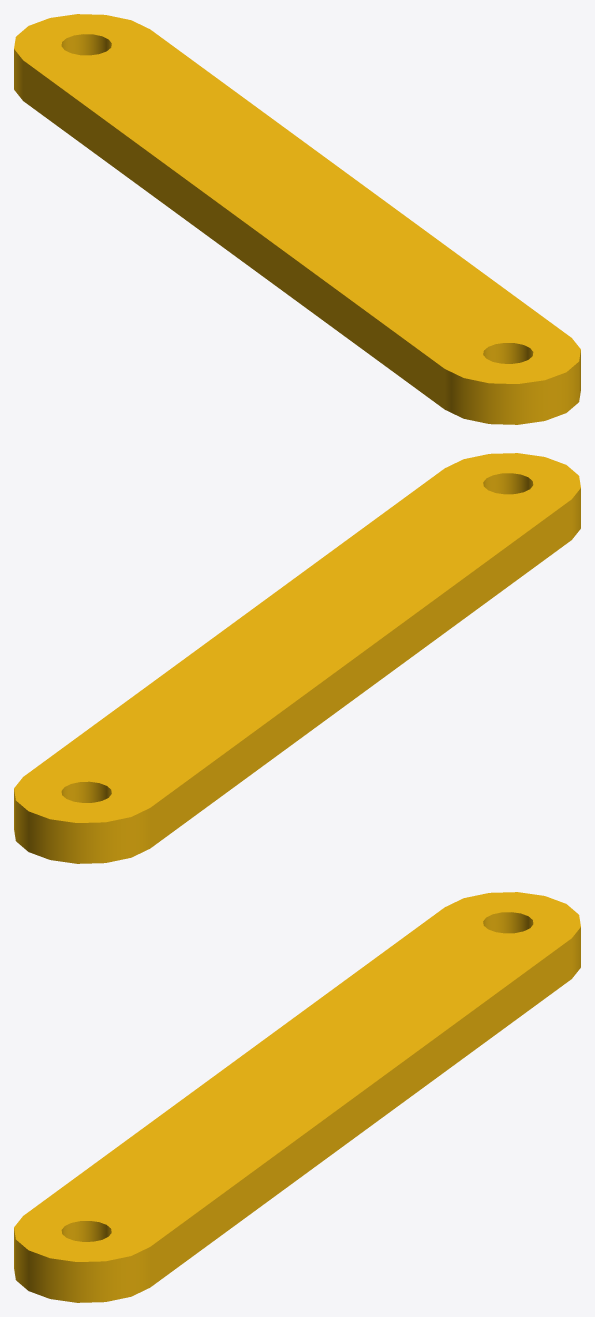
3 renders of one model, top to bottom at view 1: azimuth 30°, elevation 25°; view 2: azimuth 150°, elevation 25°; view 3: azimuth 330°, elevation 25°, orthographic.
Parts seen in each view (by area): view 1: mesh736, mesh737, mesh740, mesh741, mesh734; view 2: mesh736, mesh737, mesh738, mesh741, mesh734; view 3: mesh736, mesh739, mesh740, mesh741, mesh734.
Boxes of the visible parts, x1=… form: mesh736: x1=14, y1=14, x2=580, y2=383; mesh737: x1=23, y1=60, x2=444, y2=409; mesh740: x1=444, y1=350, x2=580, y2=424; mesh741: x1=61, y1=34, x2=111, y2=55; mesh734: x1=483, y1=343, x2=533, y2=363; mesh736: x1=14, y1=453, x2=580, y2=822; mesh737: x1=150, y1=499, x2=571, y2=848; mesh738: x1=14, y1=789, x2=150, y2=863; mesh741: x1=61, y1=781, x2=111, y2=802; mesh734: x1=483, y1=473, x2=533, y2=494; mesh736: x1=14, y1=892, x2=580, y2=1261; mesh739: x1=150, y1=938, x2=571, y2=1287; mesh740: x1=14, y1=1228, x2=150, y2=1302; mesh741: x1=483, y1=912, x2=533, y2=933; mesh734: x1=61, y1=1221, x2=111, y2=1241.
Size of the model in its own units: 0.0261 by 0.008 by 0.1761.
